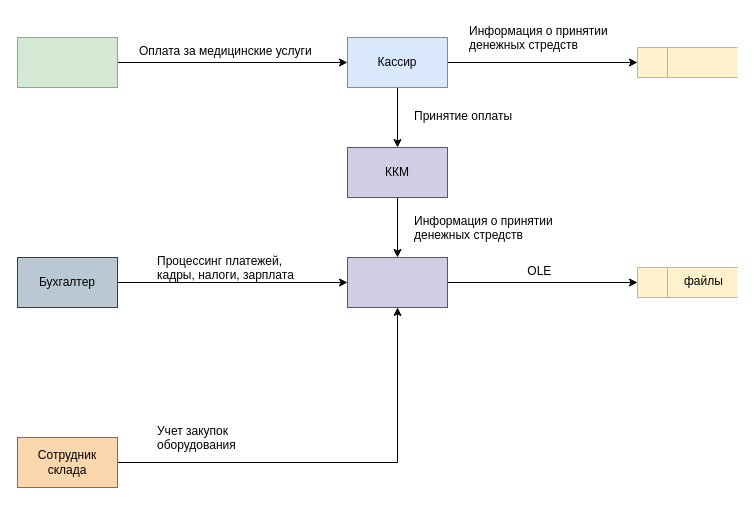
Some shapes in this 755 by 505 pixel diagram are drawn without their labels. Each missing label, with the box of its shape:
1С: (346, 256, 448, 308)
excel: (636, 46, 738, 78)
Пациент: (16, 36, 118, 88)
